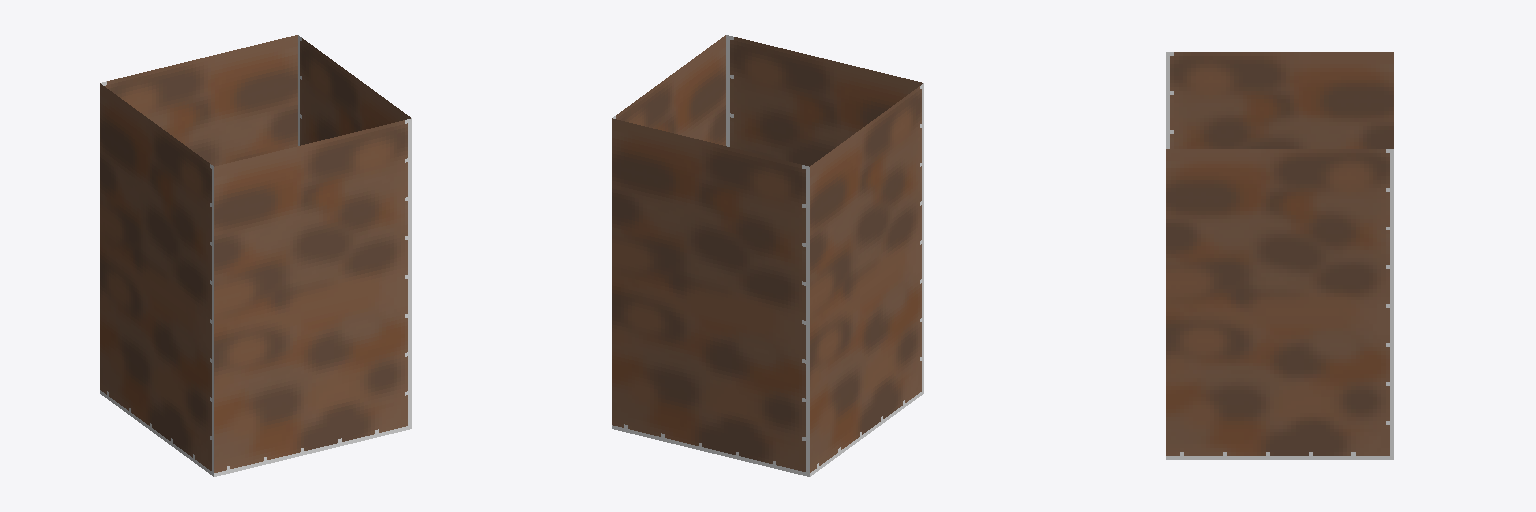
3 views of the same model, side by side, from view 1: azimuth 30°, elevation 25°; view 2: azimuth 150°, elevation 25°; view 3: azimuth 270°, elevation 25° (orthographic).
Visible parts, largest first — view 1: Plane.003, Plane.001, Plane.002, Plane; view 2: Plane.002, Plane.001, Plane.003, Plane; view 3: Plane, Plane.001.
Boxes of the visible parts, box(x1,y1,x2,y2) form: Plane.003: box(214, 118, 411, 476); Plane.001: box(100, 83, 213, 476); Plane.002: box(101, 35, 297, 166); Plane: box(298, 35, 410, 145); Plane.002: box(612, 118, 809, 476); Plane.001: box(810, 83, 923, 476); Plane.003: box(726, 35, 922, 166); Plane: box(613, 35, 725, 145); Plane: box(1166, 149, 1393, 459); Plane.001: box(1166, 52, 1393, 148).
Size of the model in its own units: 6 by 9 by 6.
1 materials, 1 textured.